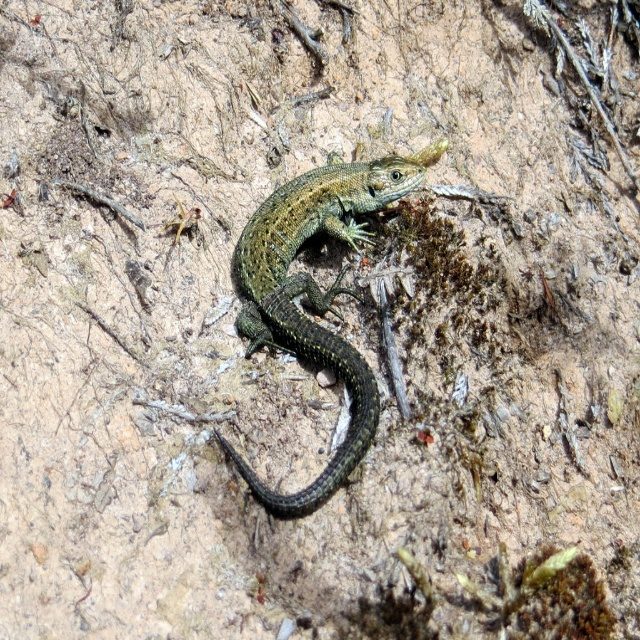Lizard: (213, 137, 450, 519)
